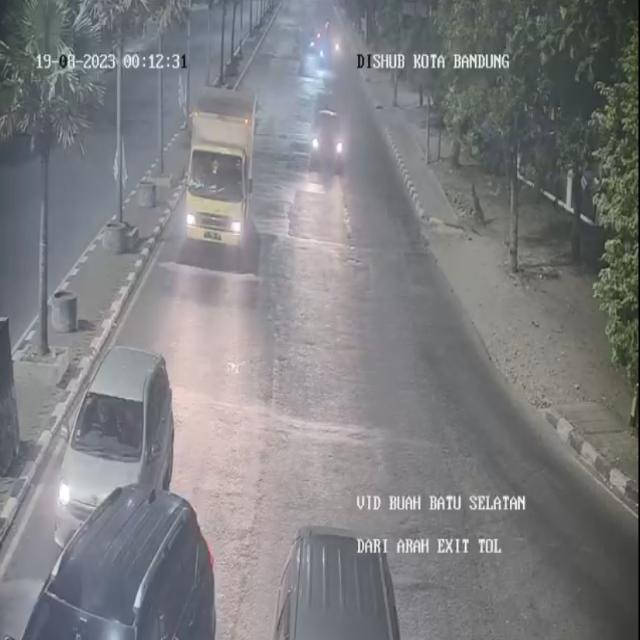cars: (8, 487, 212, 640), (53, 344, 172, 541), (264, 515, 408, 640), (311, 104, 355, 173)
truck: (184, 84, 260, 261)
